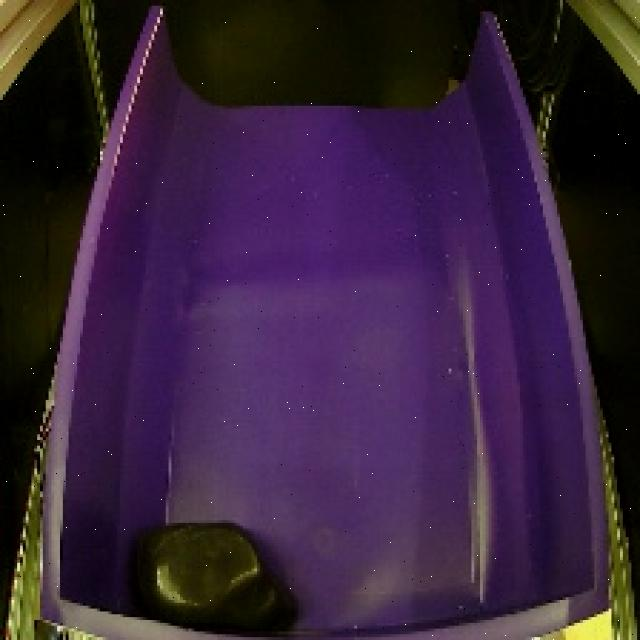cobbles: (122, 505, 314, 640)
